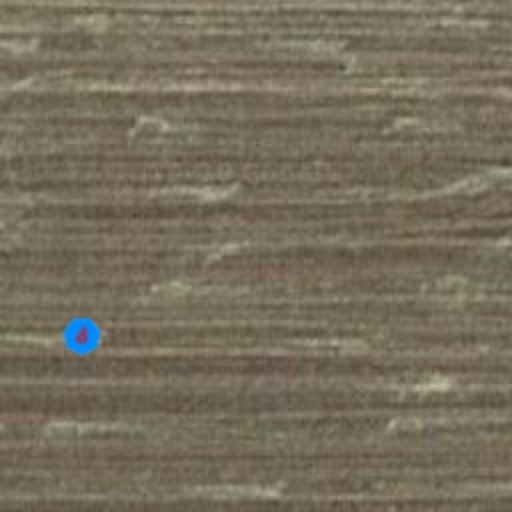heptagon: (58, 312, 106, 360)
